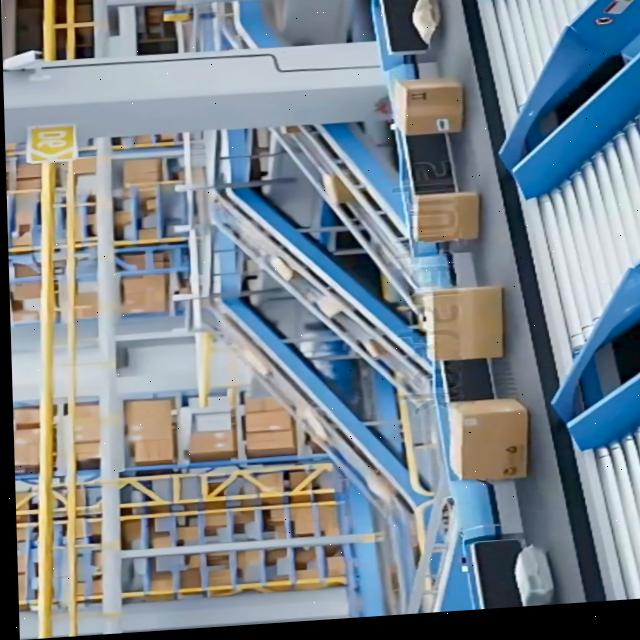product 1: (414, 284, 505, 364), (444, 396, 530, 463), (391, 75, 464, 137), (411, 190, 480, 244)
